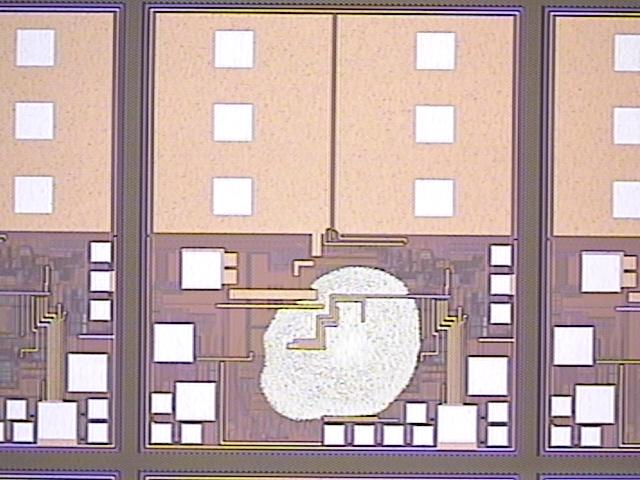BLOCK ETCH: (253, 255, 432, 432)
